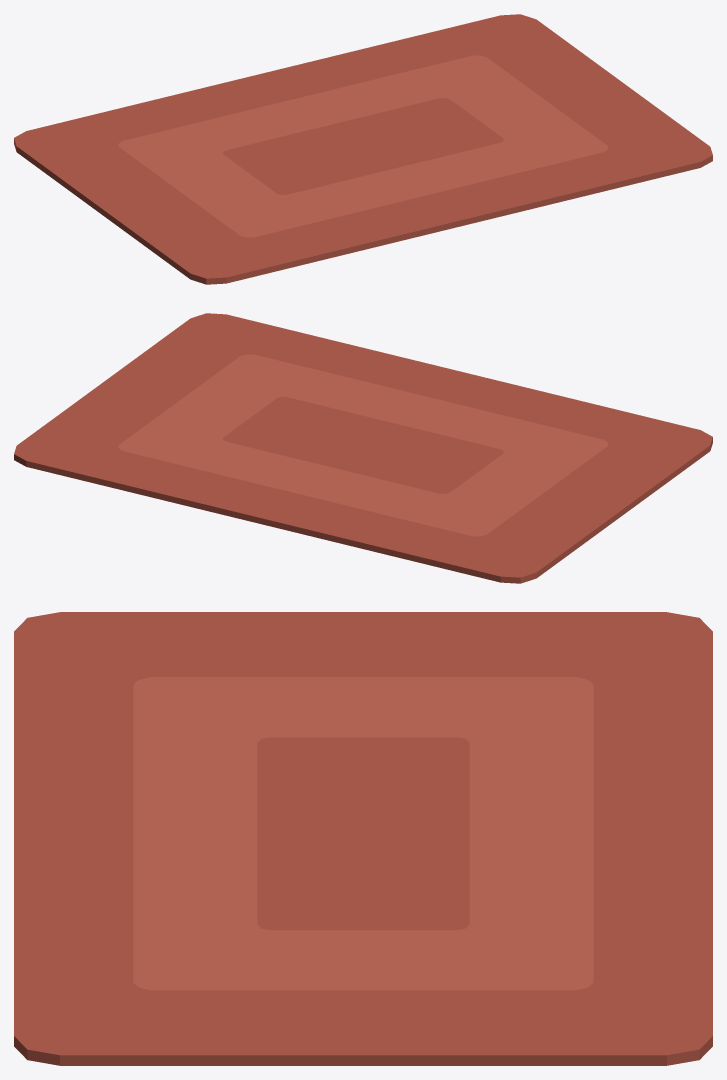
The model's file is Carpet3_C2.fbx.
3 renders of one model, top to bottom at view 1: azimuth 30°, elevation 25°; view 2: azimuth 150°, elevation 25°; view 3: azimuth 270°, elevation 25°, orthographic. The views are drawn at different scales.
Visible parts, largest first — view 1: Carpet3_C2; view 2: Carpet3_C2; view 3: Carpet3_C2.
Part boxes in pixels (bbox=[...]): Carpet3_C2: bbox=[14, 14, 712, 284]; Carpet3_C2: bbox=[14, 313, 712, 583]; Carpet3_C2: bbox=[14, 612, 712, 1065].
Bounding box in the file's own units: 90 × 1 × 60.
